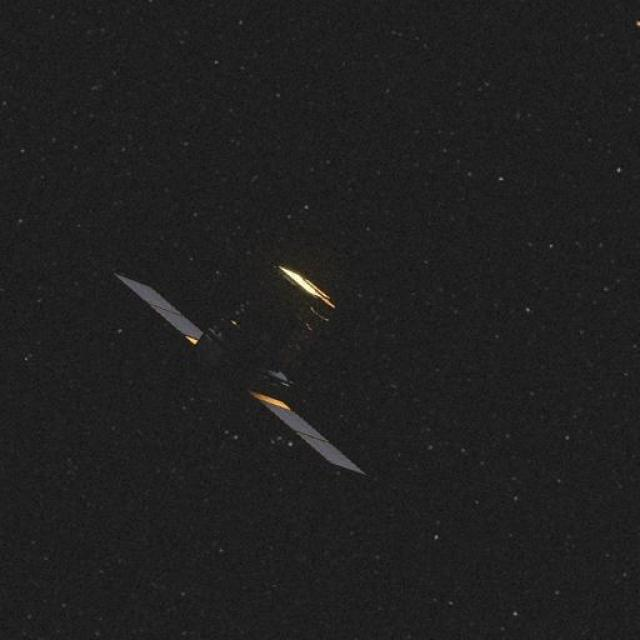soho: (95, 253, 367, 477)
